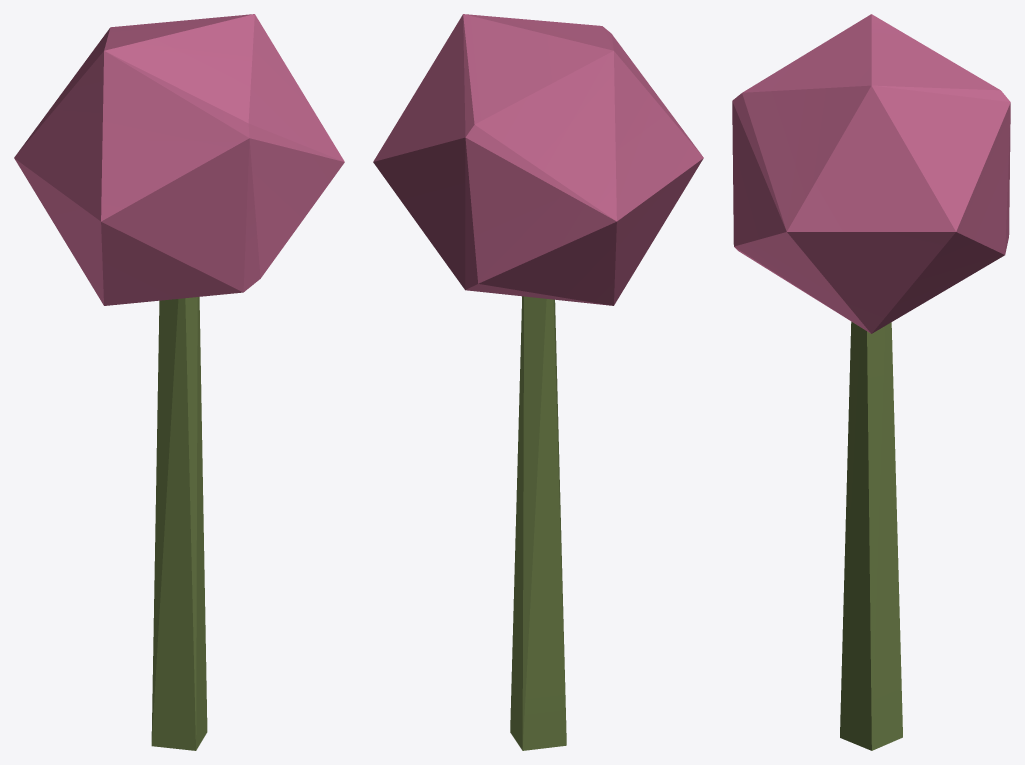
File: prop_flower_lod2.glb
3 views of the same model, side by side, from view 1: azimuth 30°, elevation 25°; view 2: azimuth 150°, elevation 25°; view 3: azimuth 270°, elevation 25° (orthographic). The views are drawn at different scales.
Visible parts, largest first — view 1: prop_flower_lod2; view 2: prop_flower_lod2; view 3: prop_flower_lod2.
Part boxes in pixels (x1,y1,x2,y2): prop_flower_lod2: [14, 14, 344, 750]; prop_flower_lod2: [373, 14, 703, 750]; prop_flower_lod2: [732, 14, 1010, 750].
Size of the model in its own units: 0.2114 by 0.5935 by 0.2148.
